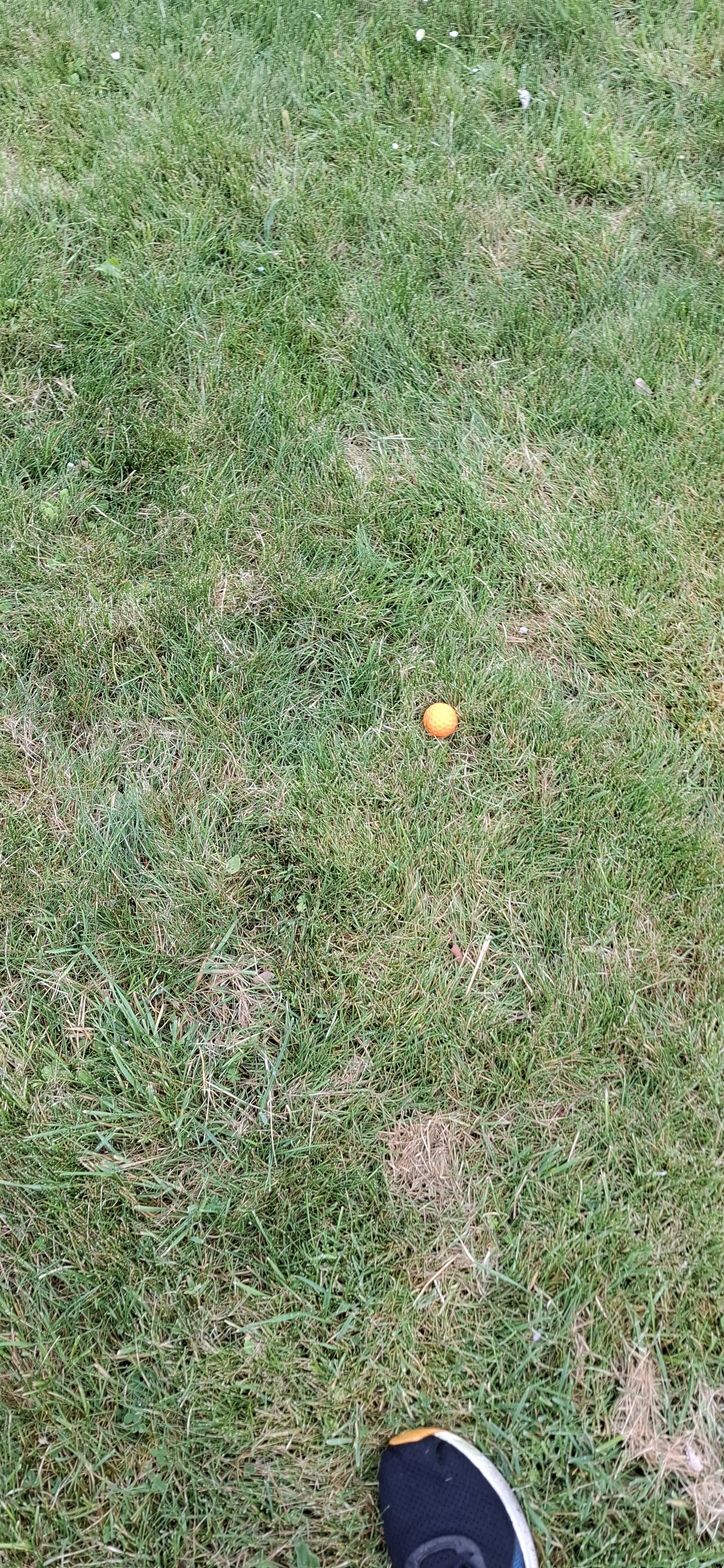ball: (324, 577, 341, 652)
